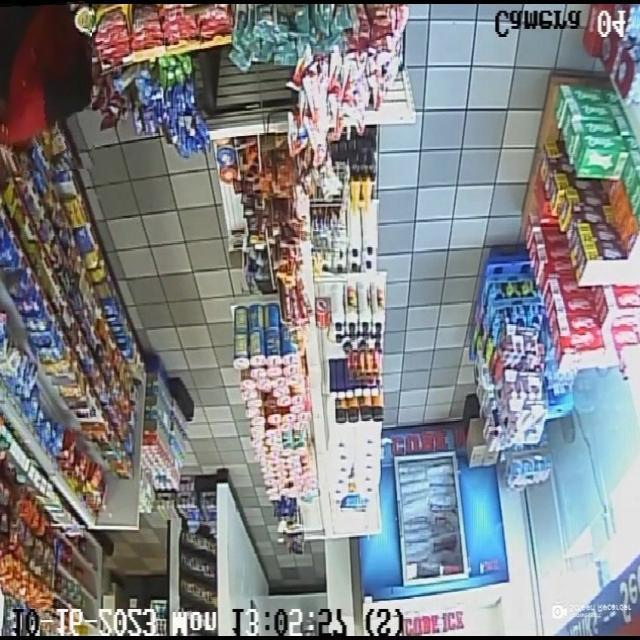Normal: (0, 0, 92, 171)
